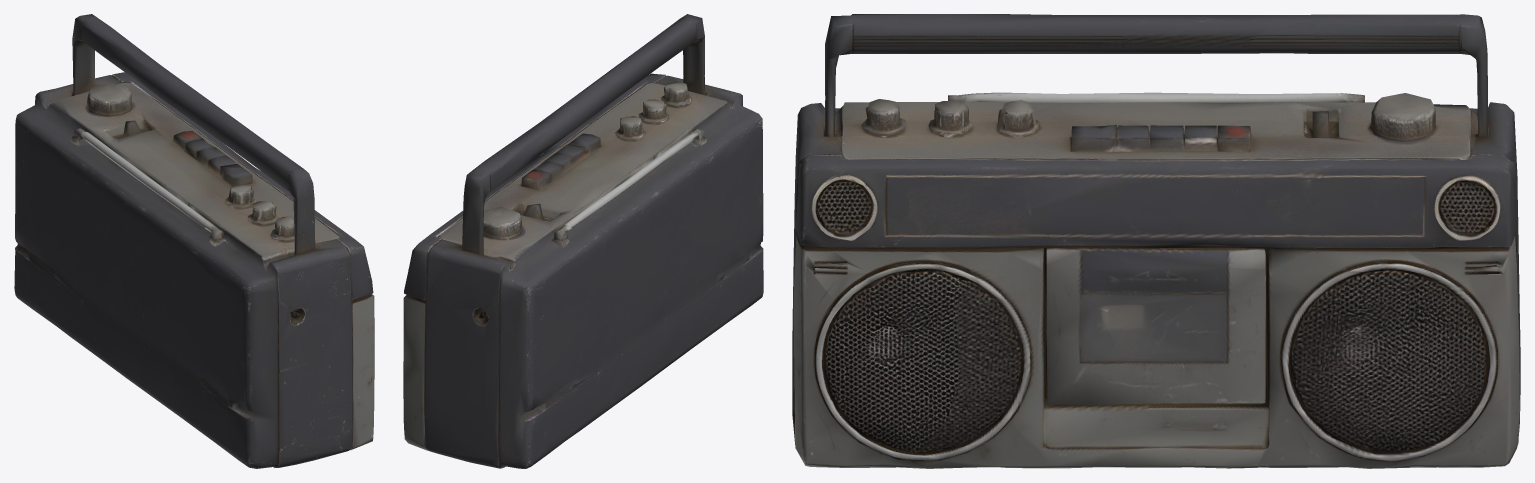
The model's file is radio.glb.
3 views of the same model, side by side, from view 1: azimuth 30°, elevation 25°; view 2: azimuth 150°, elevation 25°; view 3: azimuth 270°, elevation 25° (orthographic). The views are drawn at different scales.
Parts seen in each view (by area): view 1: tripo_node_933b8ab7-a461-4617-922d-60b58c330ff9; view 2: tripo_node_933b8ab7-a461-4617-922d-60b58c330ff9; view 3: tripo_node_933b8ab7-a461-4617-922d-60b58c330ff9.
Part boxes in pixels (x1,y1,x2,y2): tripo_node_933b8ab7-a461-4617-922d-60b58c330ff9: (14,14,374,468); tripo_node_933b8ab7-a461-4617-922d-60b58c330ff9: (403,14,763,468); tripo_node_933b8ab7-a461-4617-922d-60b58c330ff9: (792,14,1520,468).
Bounding box in the file's own units: 0.1242 × 0.25 × 0.3996.
1 material, 1 textured.
